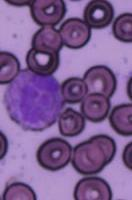E: (2, 70, 66, 130)
